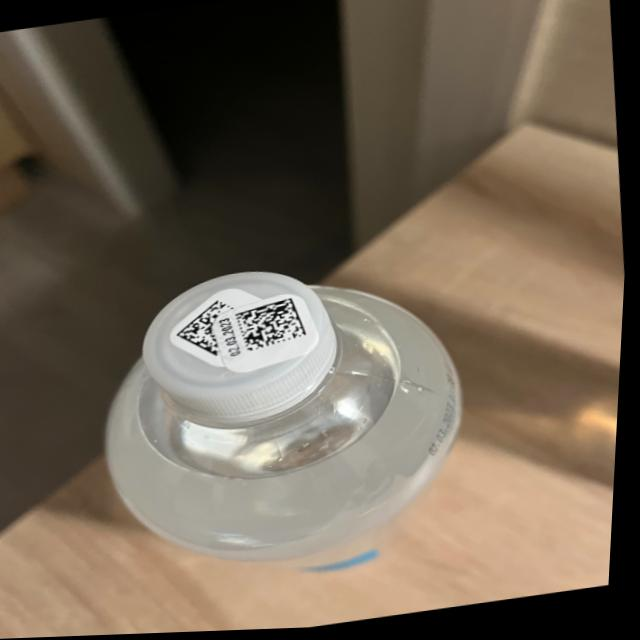datamatrix: (236, 299, 314, 356)
